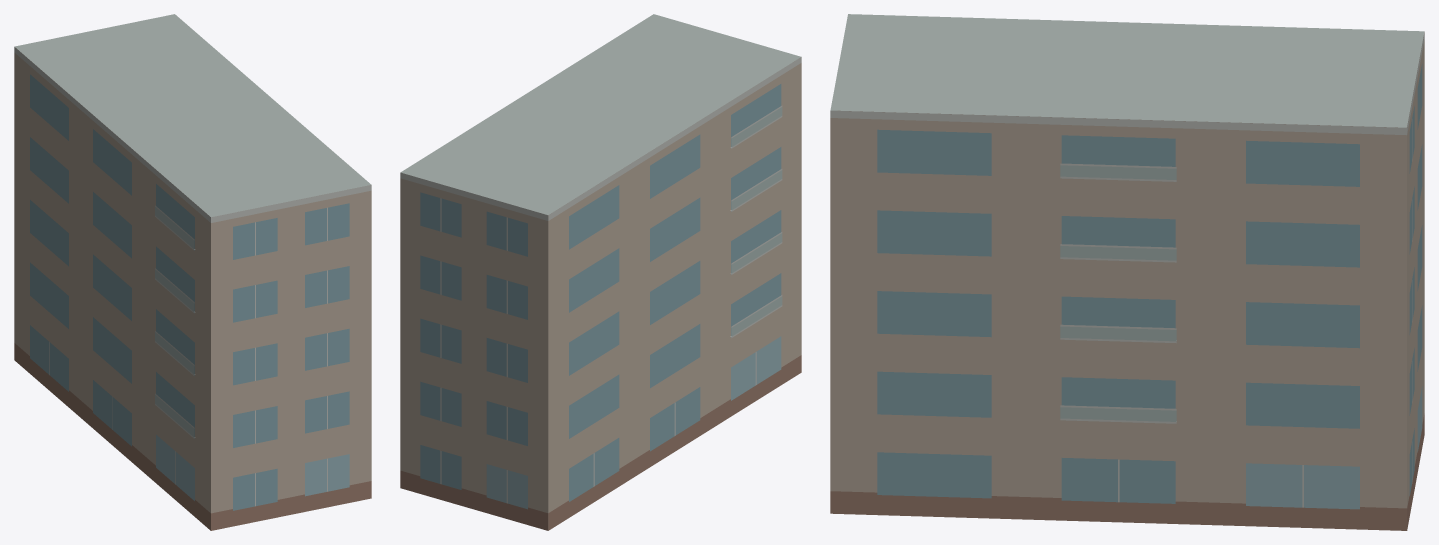
Rendered from survey-upis-32675081.glb.
3 renders of one model, left to right at view 1: azimuth 30°, elevation 25°; view 2: azimuth 150°, elevation 25°; view 3: azimuth 270°, elevation 25°, orthographic. The views are drawn at different scales.
Visible parts, largest first — view 1: survey-upis-32675081.tmp; view 2: survey-upis-32675081.tmp; view 3: survey-upis-32675081.tmp.
Boxes of the visible parts, x1,y1,x2,y2 form: survey-upis-32675081.tmp: (14,14,371,530); survey-upis-32675081.tmp: (400,14,801,530); survey-upis-32675081.tmp: (830,14,1424,530).
Size of the model in its own units: 7.99 by 13.2 by 17.64.
